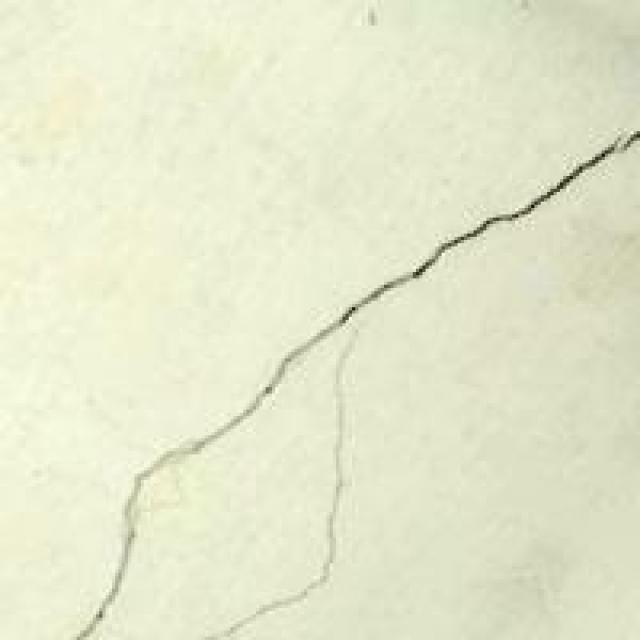Crack: (38, 122, 636, 637)
